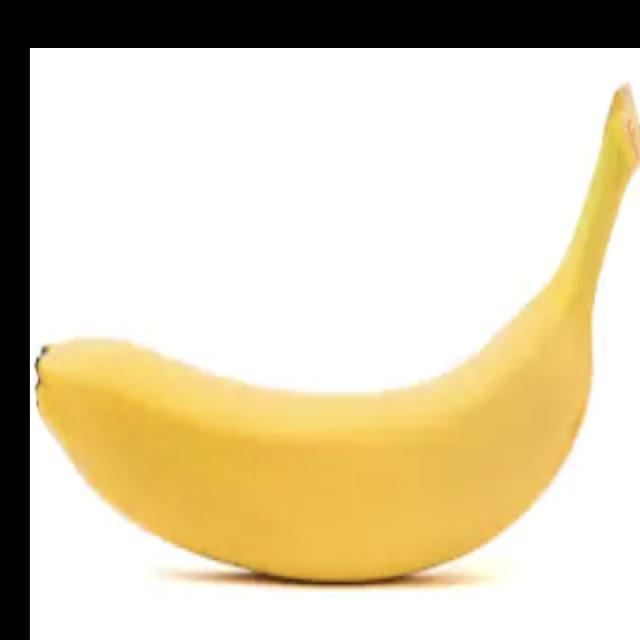Banana: (33, 81, 639, 583)
